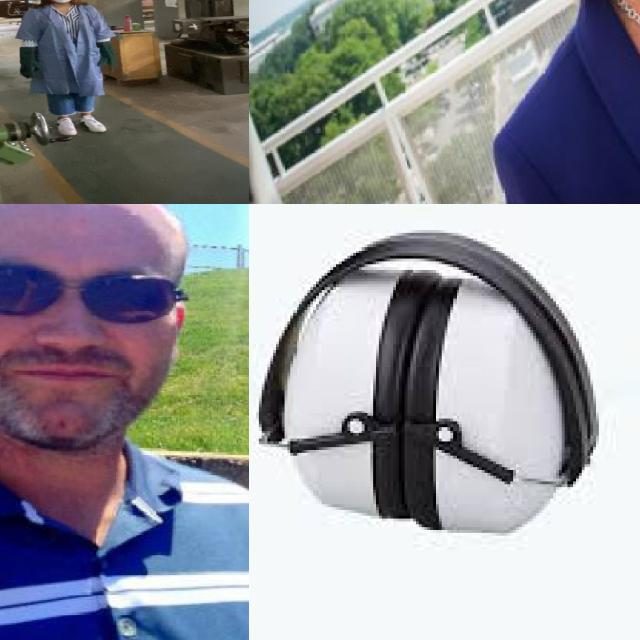Ear-protection: (399, 261, 559, 530), (290, 256, 402, 524)
face_nomask: (0, 247, 163, 426)
glasses: (0, 254, 184, 318)
hand_glove: (14, 59, 45, 79), (94, 53, 118, 67)
head_nohelmet: (0, 204, 184, 244)
person: (0, 204, 249, 640), (439, 0, 640, 204), (15, 0, 124, 141)
shoes: (76, 112, 112, 134), (52, 114, 81, 138)
